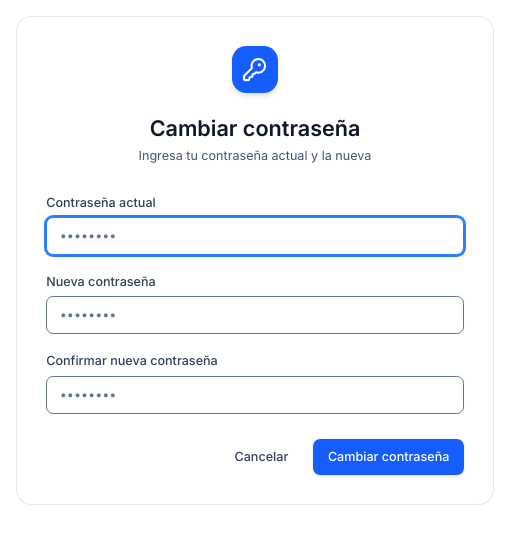
Test: ChangePasswordPage › muestra error cuando "nueva" es igual a "actual"
Type "Password123" into the password field labelled "Contraseña actual" at (255, 236), box [46,217,464,255]
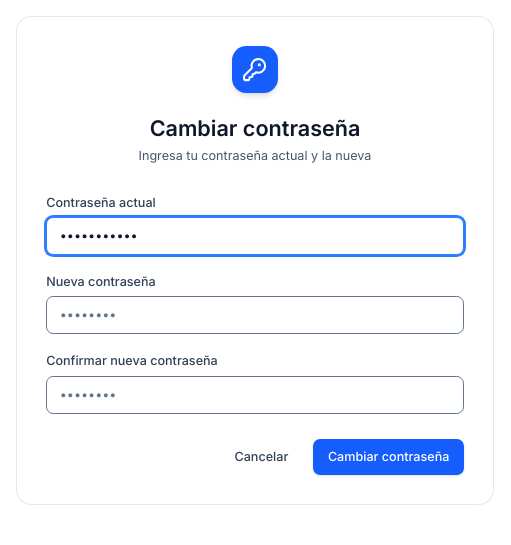
Type "Password123" into the password field labelled "Nueva contraseña" at (255, 315), box [46,296,464,334]
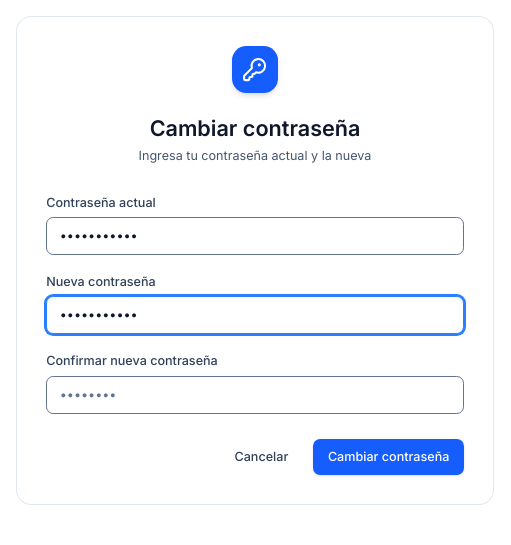
Type "Password123" into the password field labelled "Confirmar nueva contraseña" at (255, 395), box [46,376,464,414]
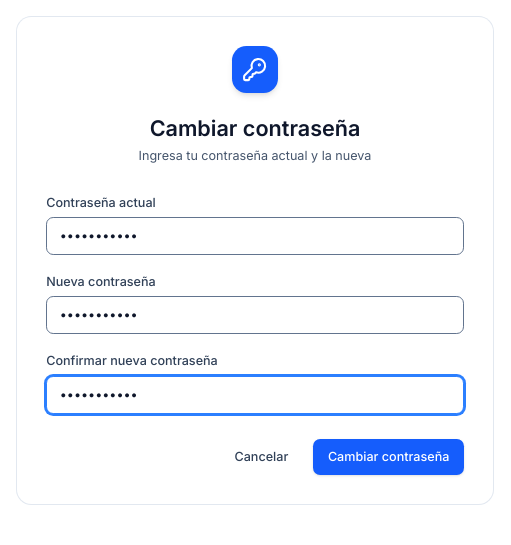
Click the button "Cambiar contraseña" at (389, 457), box [314,439,464,475]
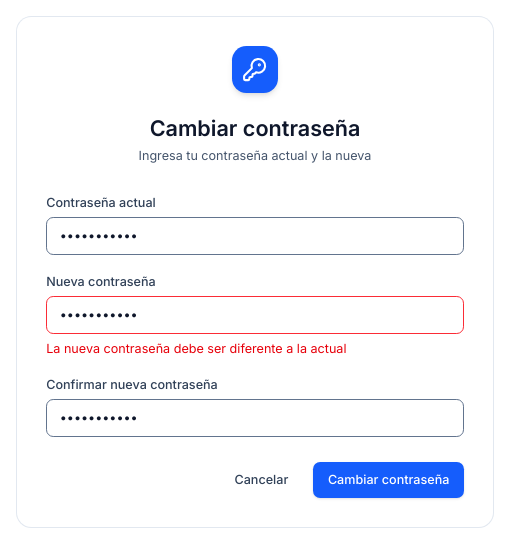
expect the text "La nueva contraseña debe ser diferente a la actual" is shown: met, box [46,341,346,356]
